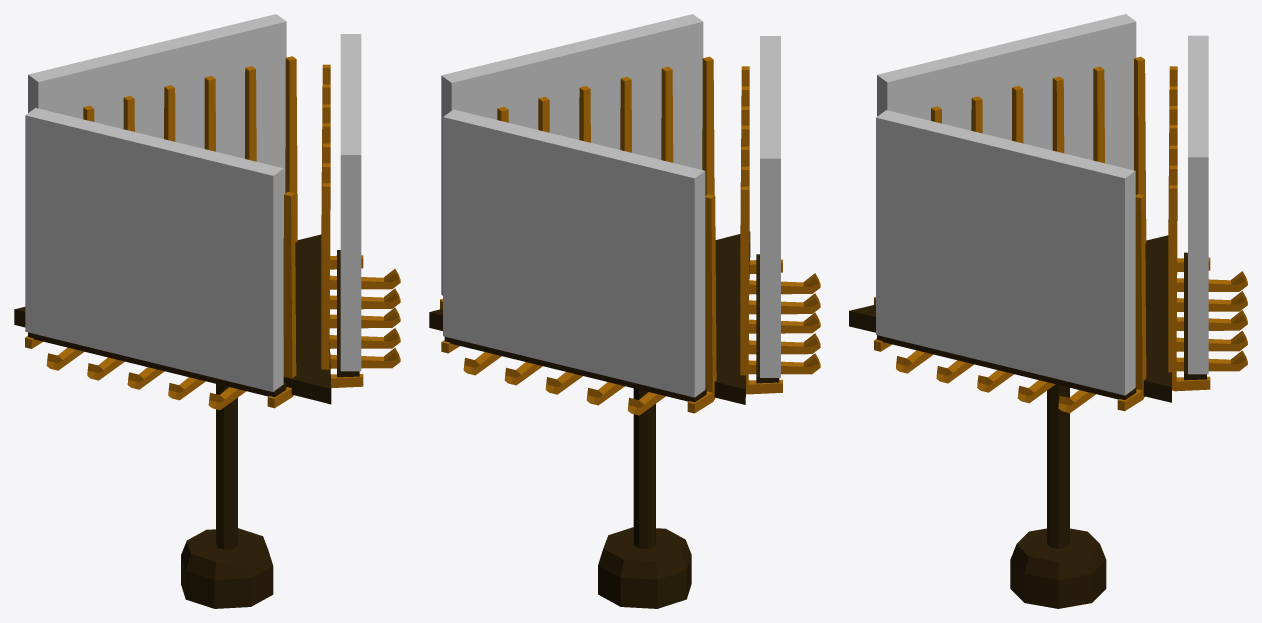
Rendered from BillBoard2 (1).fbx.
3 views of the same model, side by side, from view 1: azimuth 30°, elevation 25°; view 2: azimuth 150°, elevation 25°; view 3: azimuth 270°, elevation 25° (orthographic).
Visible parts, largest first — view 1: Cube21, Cube11, polySurface173, Cube33, polySurface193, polySurface33, pCube111, polySurface182; view 2: Cube11, Cube33, polySurface173, polySurface33, Cube21, polySurface182, polySurface193, pCube111; view 3: Cube33, Cube21, polySurface173, polySurface182, Cube11, polySurface193, polySurface33, pCube111.
Part boxes in pixels (box(x1,y1,x2,y2)): Cube21: box(25, 108, 283, 392); Cube11: box(28, 14, 286, 237); polySurface173: box(181, 384, 273, 608); Cube33: box(340, 34, 361, 371); polySurface193: box(321, 64, 400, 388); polySurface33: box(25, 191, 296, 409); pCube111: box(14, 234, 331, 404); polySurface182: box(83, 56, 297, 243); Cube11: box(443, 109, 705, 397); Cube33: box(441, 14, 703, 295); polySurface173: box(598, 388, 691, 608); polySurface33: box(740, 66, 820, 394); Cube21: box(760, 36, 780, 377); polySurface182: box(441, 194, 716, 415); polySurface193: box(440, 56, 714, 309); pCube111: box(429, 231, 750, 404); Cube33: box(876, 110, 1135, 395); Cube21: box(877, 14, 1136, 170); polySurface173: box(1010, 384, 1106, 608); polySurface182: box(1168, 66, 1247, 391); Cube11: box(1188, 35, 1208, 374); polySurface193: box(874, 194, 1146, 413); polySurface33: box(874, 56, 1146, 304); pCube111: box(849, 235, 1171, 402).
Bounding box in the file's own units: 793 × 1050 × 771.
